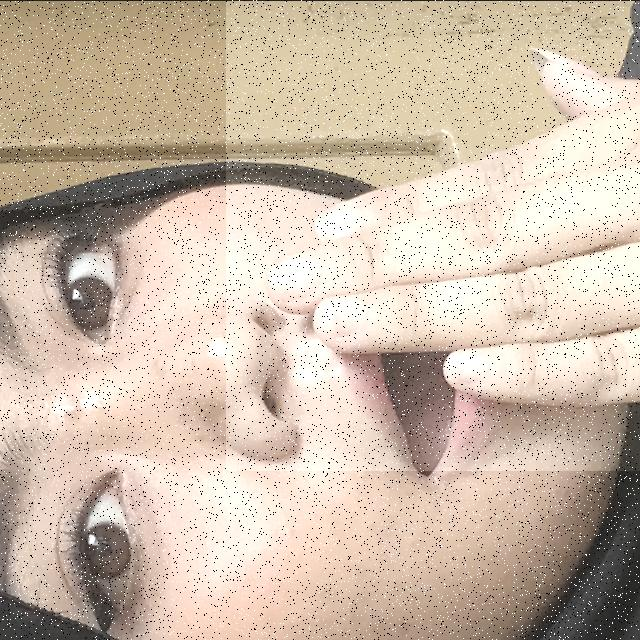ngantuk: (226, 0, 640, 470)
